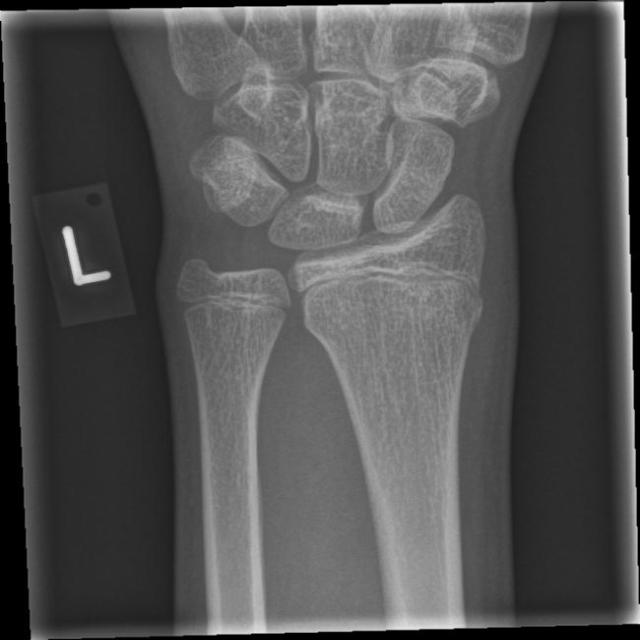fracture: (285, 251, 503, 322), (163, 266, 309, 338)
